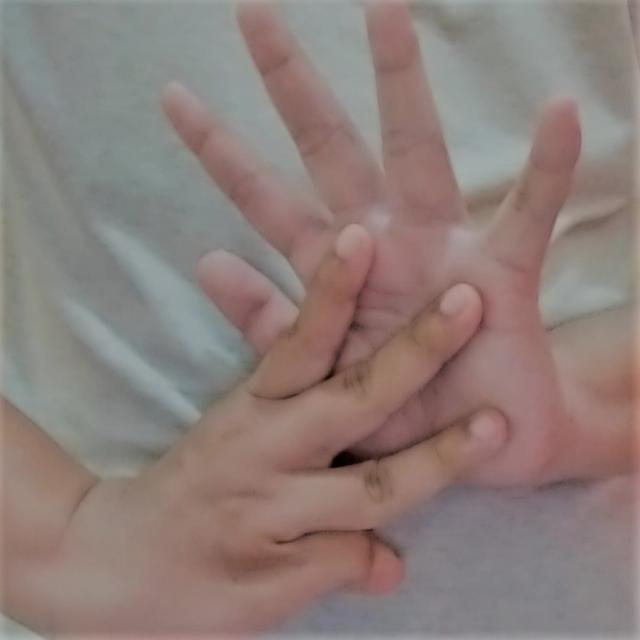M: (127, 0, 601, 622)
